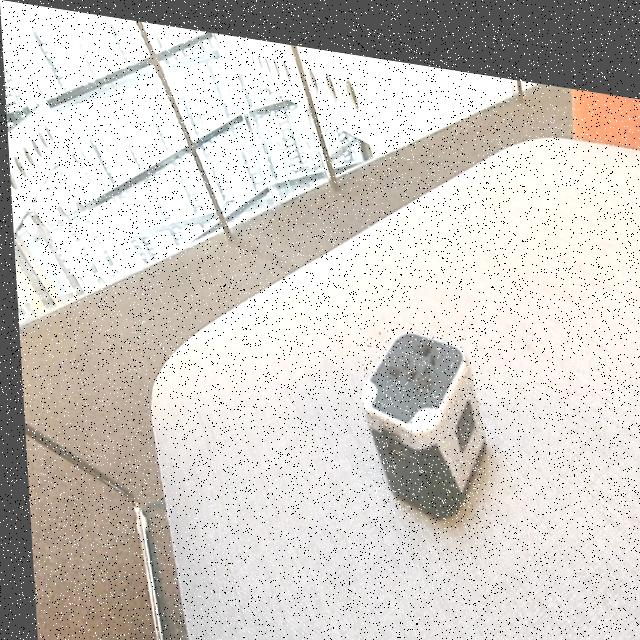adapter: (353, 309, 486, 513)
